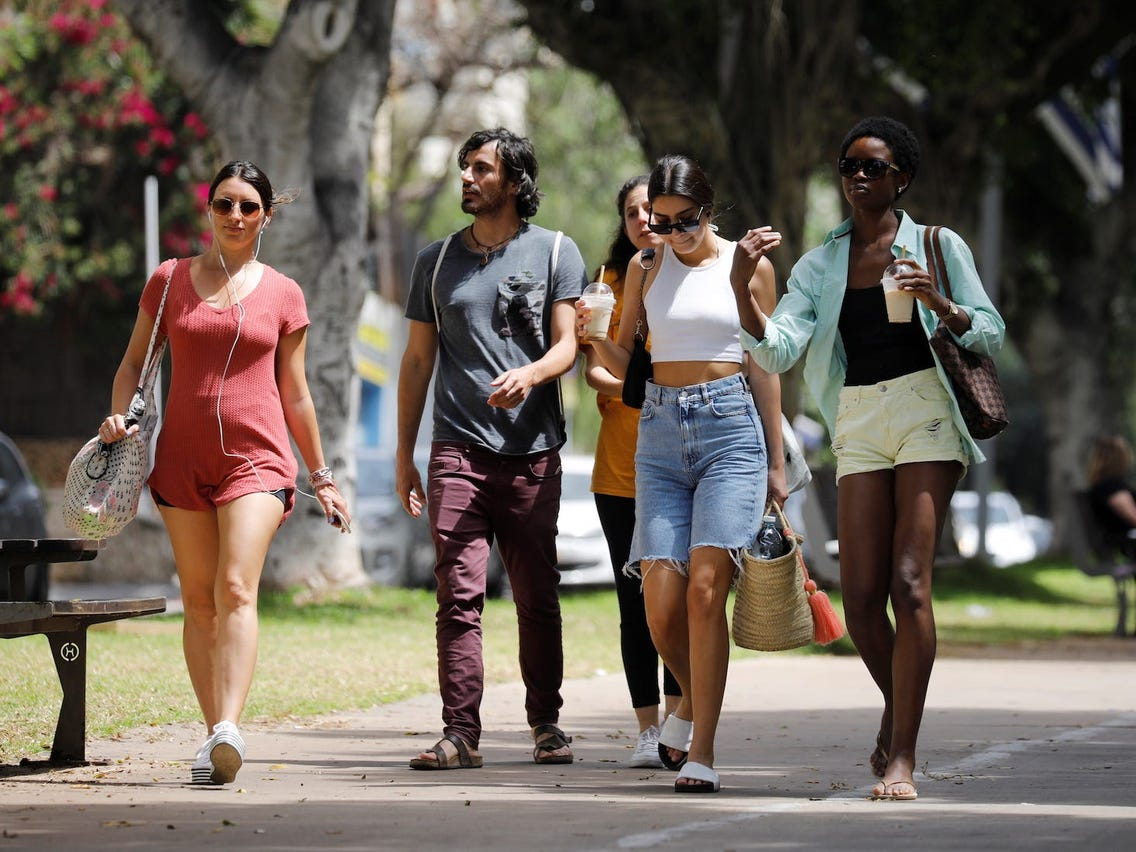without_mask: (213, 187, 263, 253), (840, 150, 894, 211), (459, 159, 501, 213), (659, 207, 706, 255)
